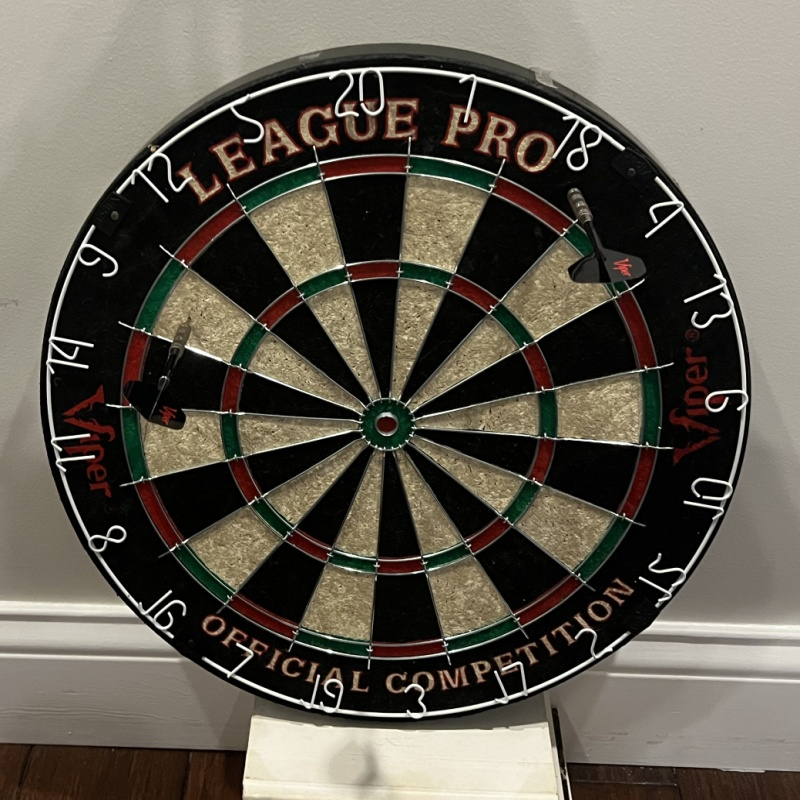dart: (175, 317, 197, 344), (567, 182, 582, 201)
eleven: (49, 432, 98, 473)
six: (705, 389, 747, 414)
three: (402, 685, 428, 718)
twenty: (328, 66, 386, 115)
